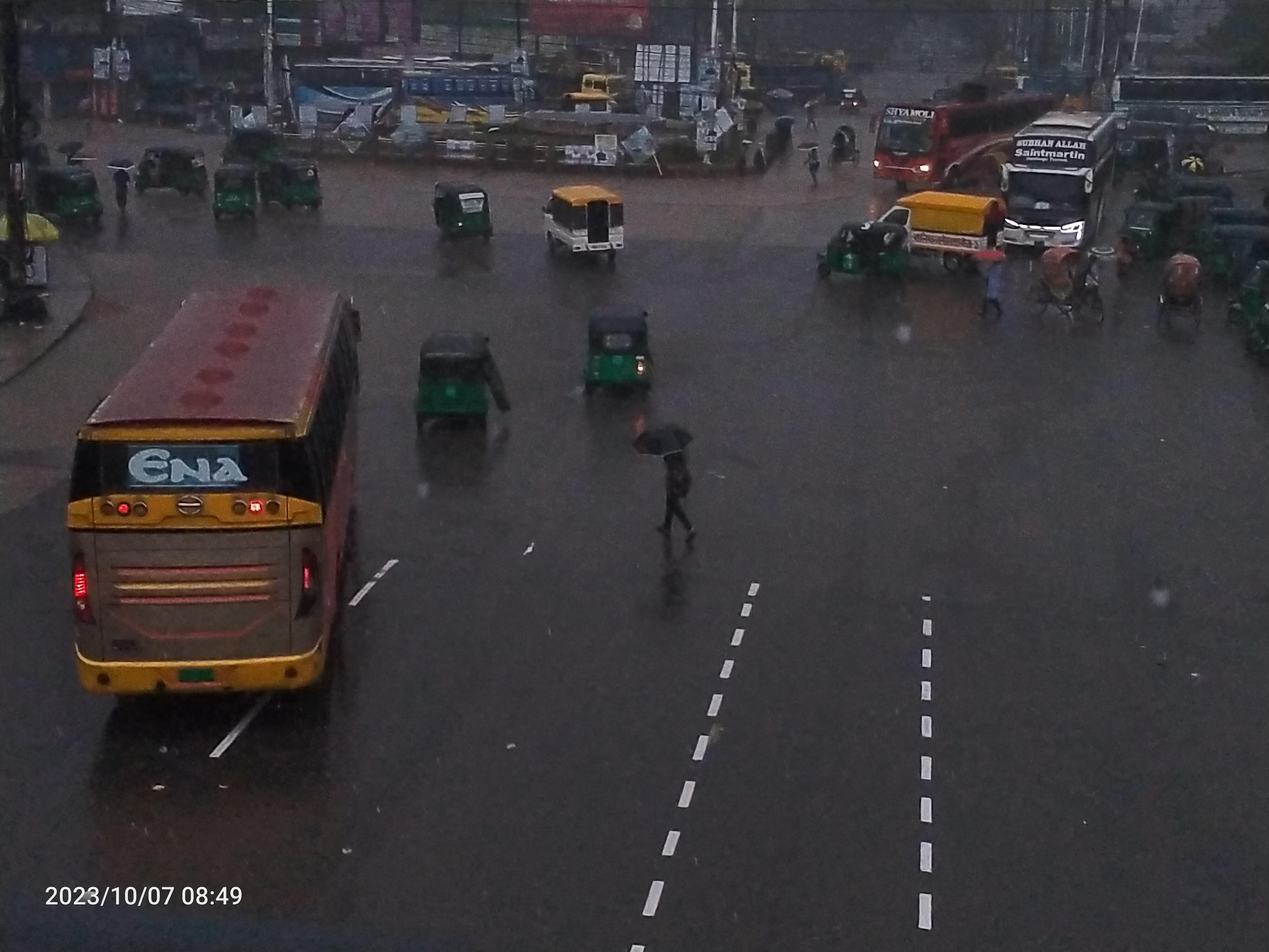Bus: (53, 258, 382, 722), (858, 86, 1104, 195), (1091, 42, 1269, 174), (996, 98, 1128, 251), (382, 43, 565, 145), (269, 36, 434, 140)
Car: (849, 160, 1014, 301), (535, 162, 651, 276), (1018, 223, 1124, 344), (1136, 223, 1222, 356), (823, 118, 873, 180)
Truck: (716, 23, 855, 116), (536, 48, 647, 133)
